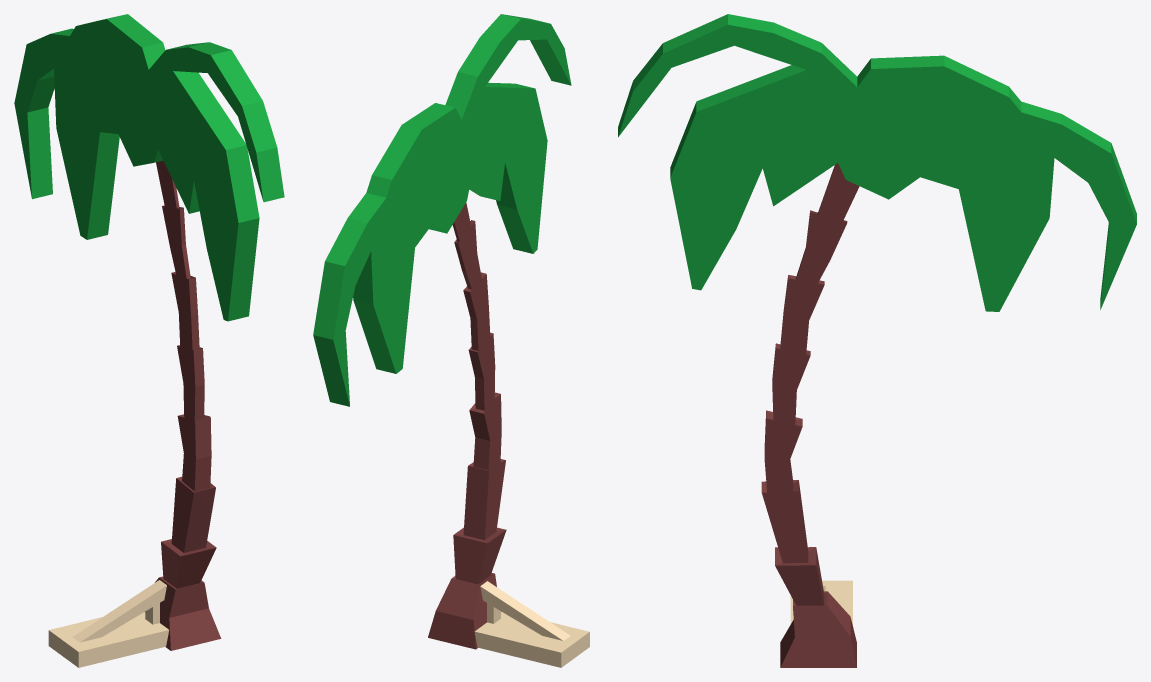
File: Palmera.fbx
The picture shows the model from 3 angles, left to right: view 1: azimuth 30°, elevation 25°; view 2: azimuth 150°, elevation 25°; view 3: azimuth 270°, elevation 25°; orthographic projection. The views are drawn at different scales.
Parts seen in each view (by area): view 1: Cube.001, Cube, Cube.002; view 2: Cube.001, Cube, Cube.002; view 3: Cube.001, Cube, Cube.002.
Boxes of the visible parts, x1,y1,x2,y2 form: Cube.001: (14,14,284,321); Cube: (155,160,221,650); Cube.002: (48,580,169,667); Cube.001: (313,14,571,406); Cube: (428,202,506,649); Cube.002: (474,581,589,667); Cube.001: (618,14,1136,311); Cube: (761,163,859,667); Cube.002: (790,580,852,625).
Bounding box in the file's own units: 115 × 487 × 361.
